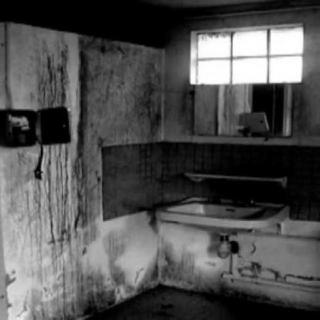other: (187, 31, 311, 85)
